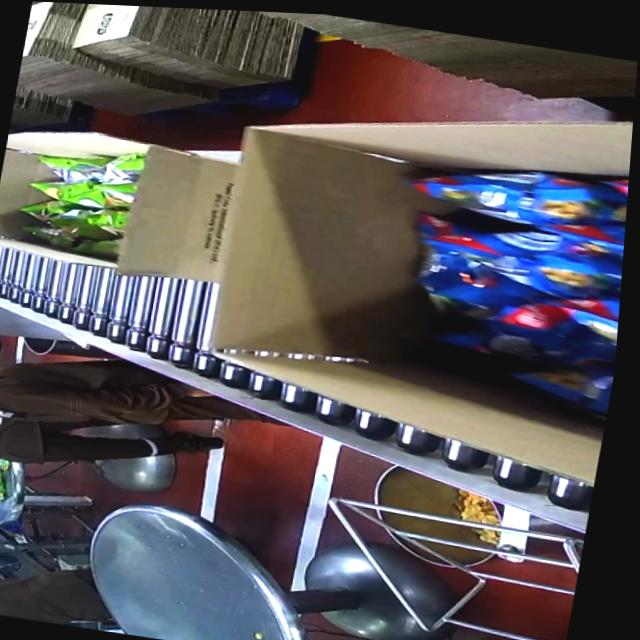PAPRIKA: (355, 144, 631, 420)
